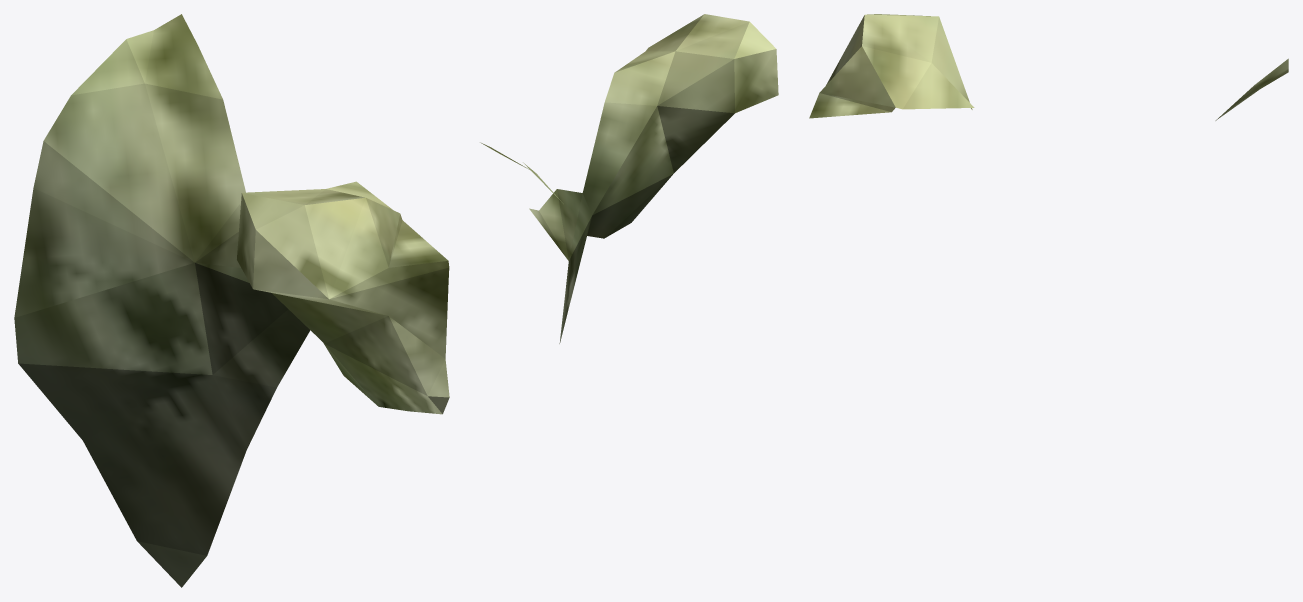
3 views of the same model, side by side, from view 1: azimuth 30°, elevation 25°; view 2: azimuth 150°, elevation 25°; view 3: azimuth 270°, elevation 25° (orthographic). The views are drawn at different scales.
Bounding box in the file's own units: 0.2256 × 0.751 × 0.6255.
Materials: 1 (1 with a texture image).
